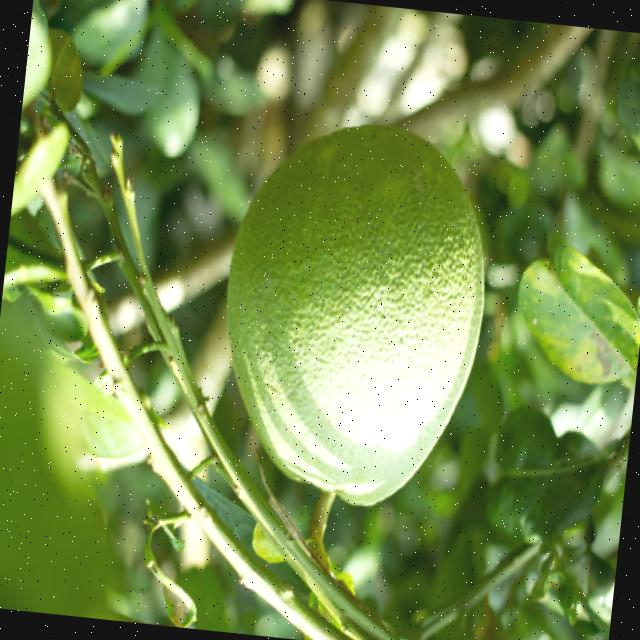Unripe: (205, 109, 500, 520)
